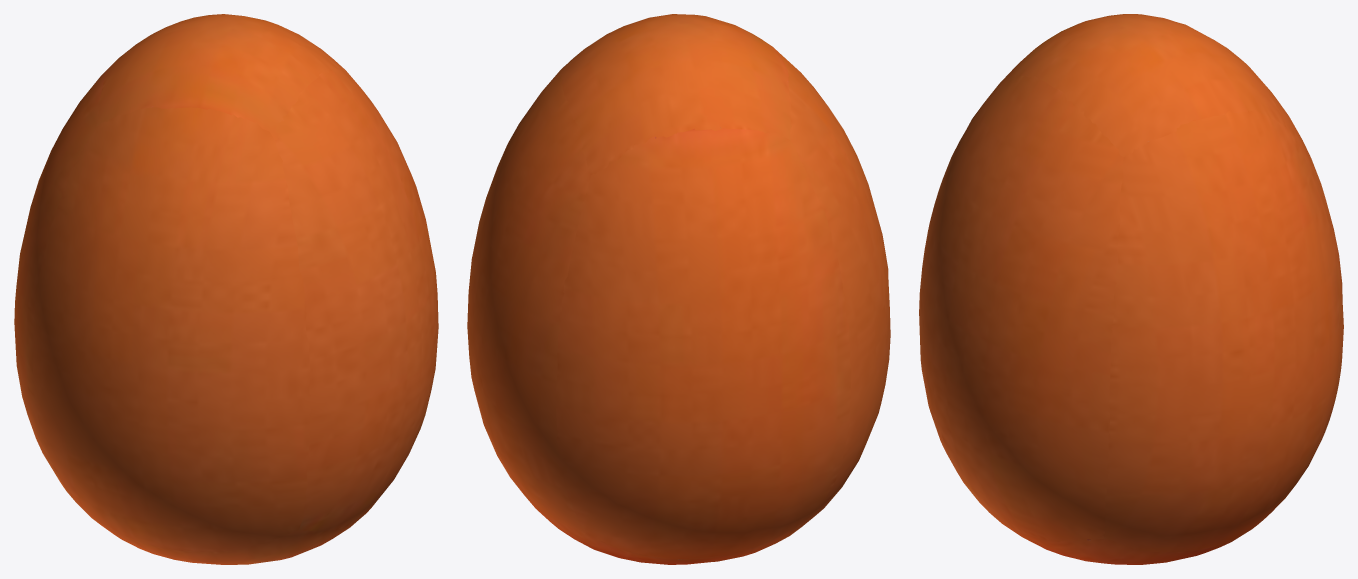
The model's file is egg.glb.
The picture shows the model from 3 angles, left to right: view 1: azimuth 30°, elevation 25°; view 2: azimuth 150°, elevation 25°; view 3: azimuth 270°, elevation 25°; orthographic projection.
Parts seen in each view (by area): view 1: mesh; view 2: mesh; view 3: mesh.
Boxes of the visible parts, <box> form: mesh: <box>14,14,438,564</box>; mesh: <box>467,14,890,564</box>; mesh: <box>919,14,1343,564</box>.
Size of the model in its own units: 1.56 by 2 by 1.56.
Materials: 1 (1 with a texture image).
